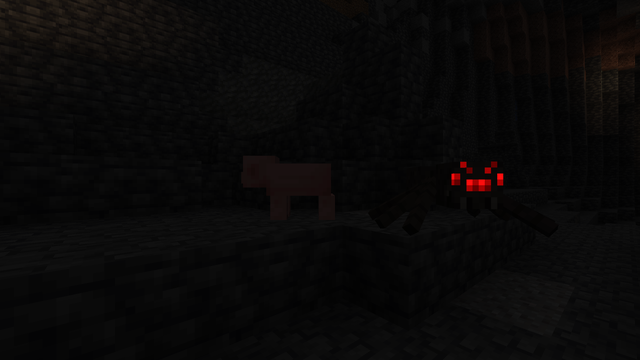araignees: (373, 150, 528, 245)
cochons: (262, 160, 337, 223)
